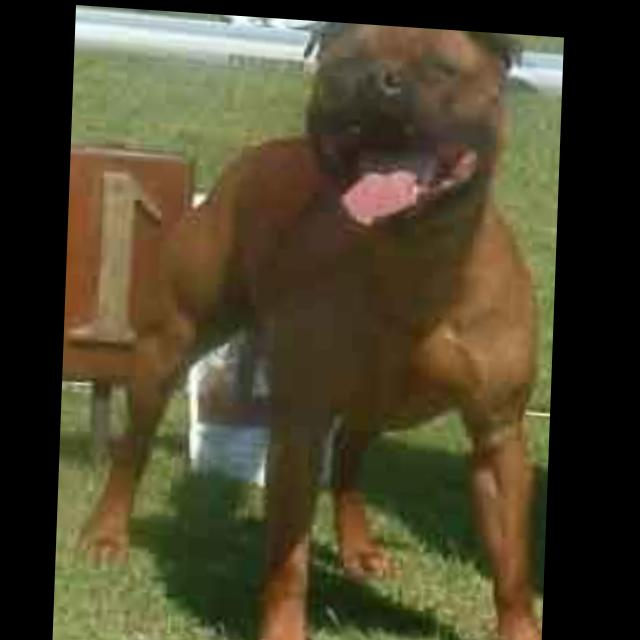staffford: (58, 5, 565, 640)
